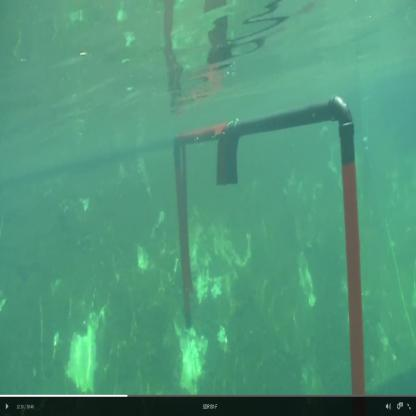gate: (168, 92, 372, 391)
